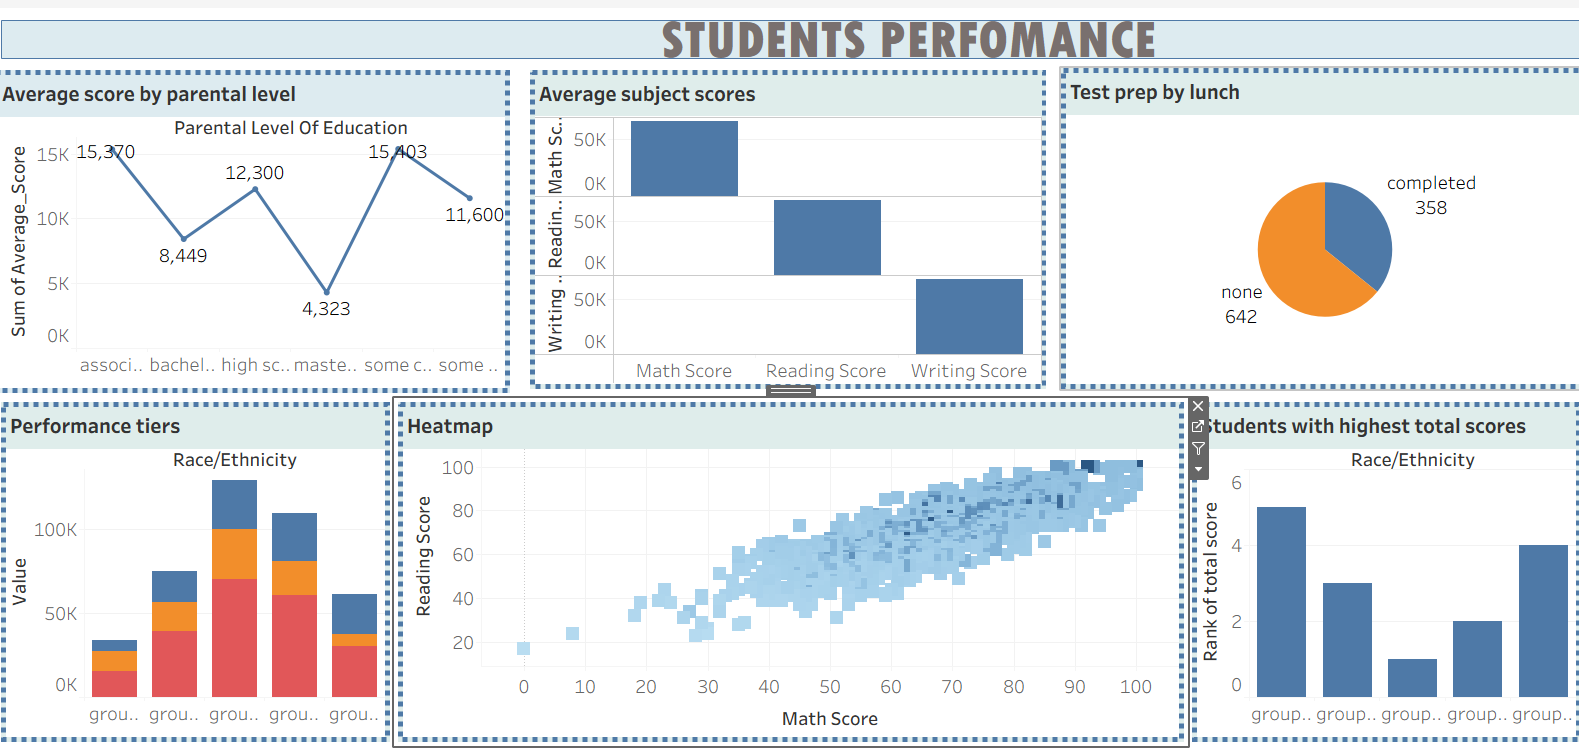

The dashboard page shown, as its layout file describes it:
{"tool":"tableau","page":{"name":"Dashboard 1","canvas":[1000,1000],"units":"permille","ordinal":0},"visuals":[{"type":"title","box":[4.8,10.7,990.4,63]},{"type":"worksheet","title":"Test prep by lunch","mark":"Pie","box":[668.3,80.4,329.3,430.3]},{"type":"worksheet","title":"Average score by parental level","mark":"Line","rows":["Calculation_229120684847370240"],"cols":["parental level of education"],"box":[2.4,83.1,322.1,433]},{"type":"worksheet","title":"Average subject scores","mark":"Bar","rows":["math score","reading score","writing score"],"box":[337.1,83.1,322.1,427.6]},{"type":"worksheet","title":"Performance tiers","mark":"Bar","cols":["race/ethnicity"],"box":[4.8,523.2,247.6,466.1]},{"type":"worksheet","title":"Heatmap","mark":"Square","rows":["reading score"],"cols":["math score"],"box":[252.4,523.2,495.2,466.1]},{"type":"worksheet","title":"Students with highest total scores","mark":"Automatic","rows":["Calculation_1673087315499036672"],"cols":["race/ethnicity"],"box":[747.5,523.2,247.7,466.1]}]}

Visuals, with their boxes on the dashboard's canvas, which has no fixed pixel size, in thousandths of its width and height (x1, y1, x2, y2). These are canvas units, not pixel positions in the 1579x750 screenshot, which may show the page scaled, cropped or inside an application window:
title: 5,11,995,74
"Test prep by lunch" worksheet (Pie marks): 668,80,998,511
"Average score by parental level" worksheet (Line marks): 2,83,324,516
"Average subject scores" worksheet (Bar marks): 337,83,659,511
"Performance tiers" worksheet (Bar marks): 5,523,252,989
"Heatmap" worksheet (Square marks): 252,523,748,989
"Students with highest total scores" worksheet: 748,523,995,989
